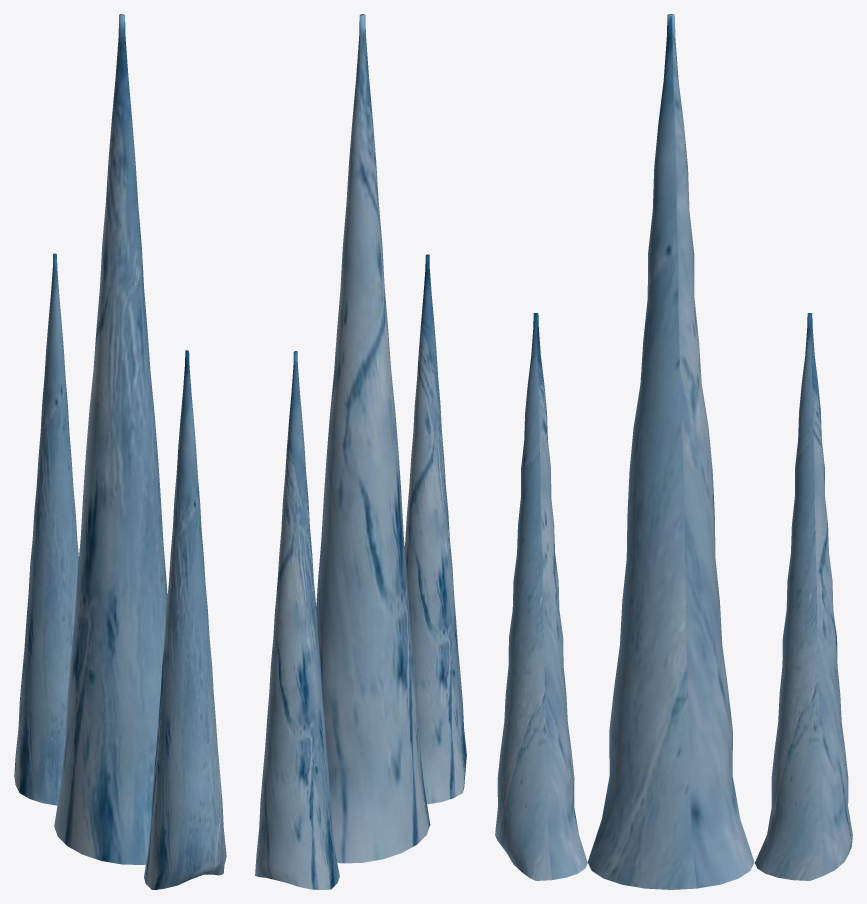
Rendered from ice_1.obj.
3 renders of one model, left to right at view 1: azimuth 30°, elevation 25°; view 2: azimuth 150°, elevation 25°; view 3: azimuth 270°, elevation 25°, orthographic. The views are drawn at different scales.
Visible parts, largest first — view 1: pCone1, pCone2, pCone3; view 2: pCone1, pCone3, pCone2; view 3: pCone1, pCone3, pCone2.
Boxes of the visible parts, x1,y1,x2,y2 form: pCone1: [54, 14, 167, 864]; pCone2: [144, 350, 226, 889]; pCone3: [14, 253, 78, 805]; pCone1: [316, 14, 430, 863]; pCone3: [255, 351, 339, 889]; pCone2: [404, 254, 466, 804]; pCone1: [587, 14, 754, 889]; pCone3: [755, 313, 852, 880]; pCone2: [495, 313, 587, 880].
Size of the model in its own units: 1.83 by 13.1 by 5.01.
Materials: 1 (1 with a texture image).
